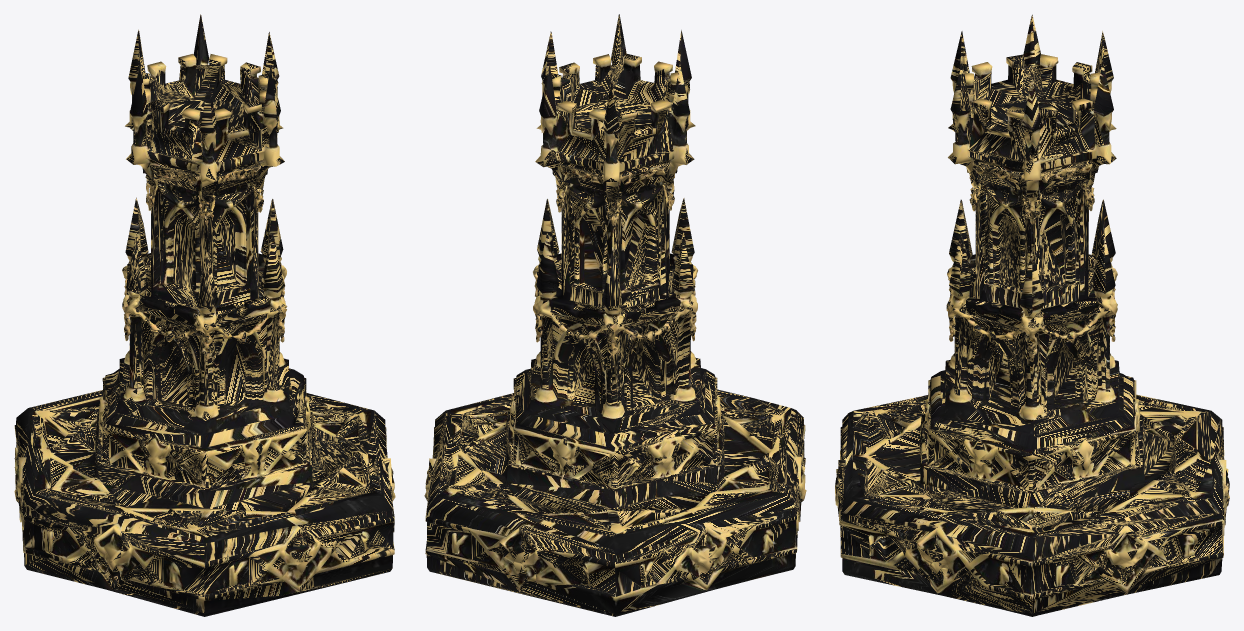
File: Obsidian_Citadel.glb
3 views of the same model, side by side, from view 1: azimuth 30°, elevation 25°; view 2: azimuth 150°, elevation 25°; view 3: azimuth 270°, elevation 25° (orthographic).
Parts seen in each view (by area): view 1: Obsidian_Citadel; view 2: Obsidian_Citadel; view 3: Obsidian_Citadel.
Part boxes in pixels (<box>): Obsidian_Citadel: <box>14,14,395,616</box>; Obsidian_Citadel: <box>424,14,806,616</box>; Obsidian_Citadel: <box>835,14,1229,616</box>.
Bounding box in the file's own units: 1.51 × 1.9 × 1.41.
Materials: 1 (1 with a texture image).
